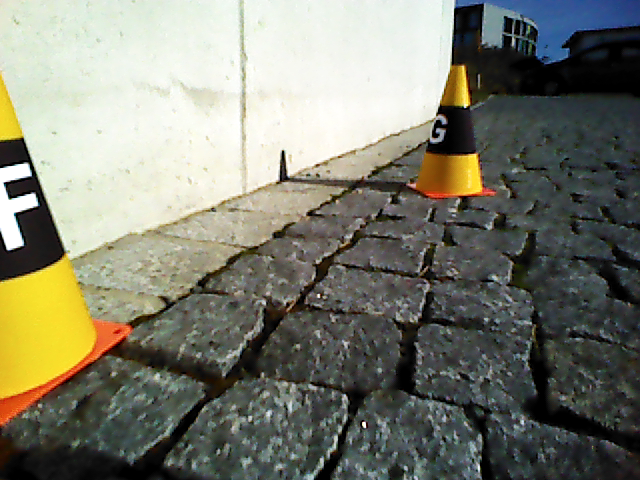yellowcone: (1, 60, 97, 399), (418, 65, 482, 194)
